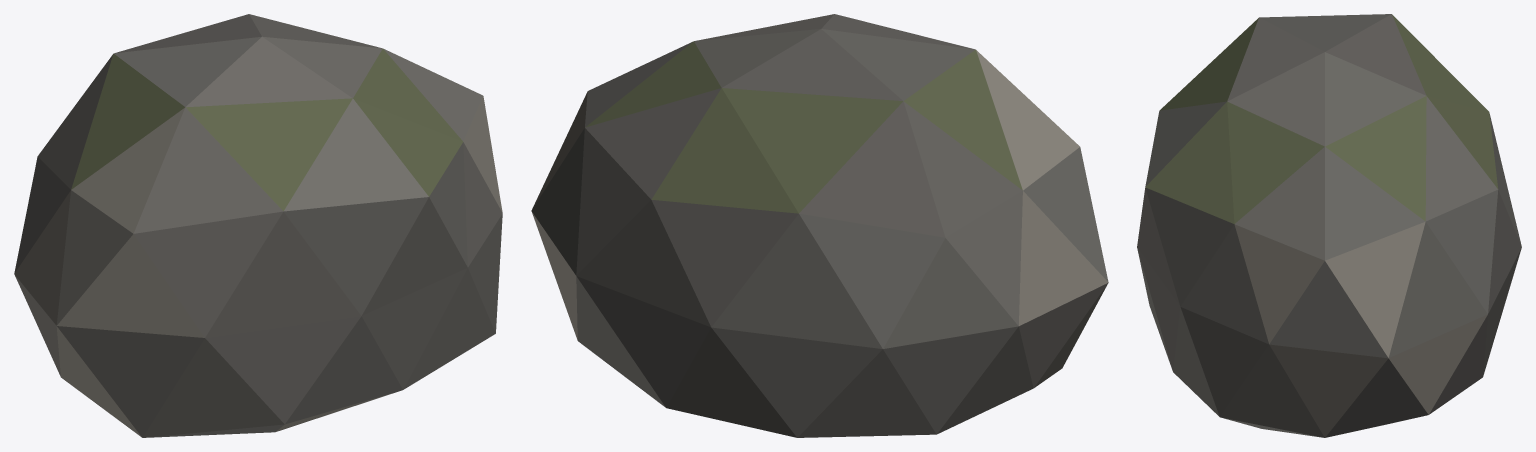
File: E6_rock_a.glb
3 views of the same model, side by side, from view 1: azimuth 30°, elevation 25°; view 2: azimuth 150°, elevation 25°; view 3: azimuth 270°, elevation 25° (orthographic). The views are drawn at different scales.
Visible parts, largest first — view 1: E6_rock_a; view 2: E6_rock_a; view 3: E6_rock_a.
Boxes of the visible parts, x1,y1,x2,y2 form: E6_rock_a: (14,14,502,437); E6_rock_a: (531,14,1108,437); E6_rock_a: (1137,14,1521,437).
Size of the model in its own units: 0.8691 by 0.6 by 0.6391.
